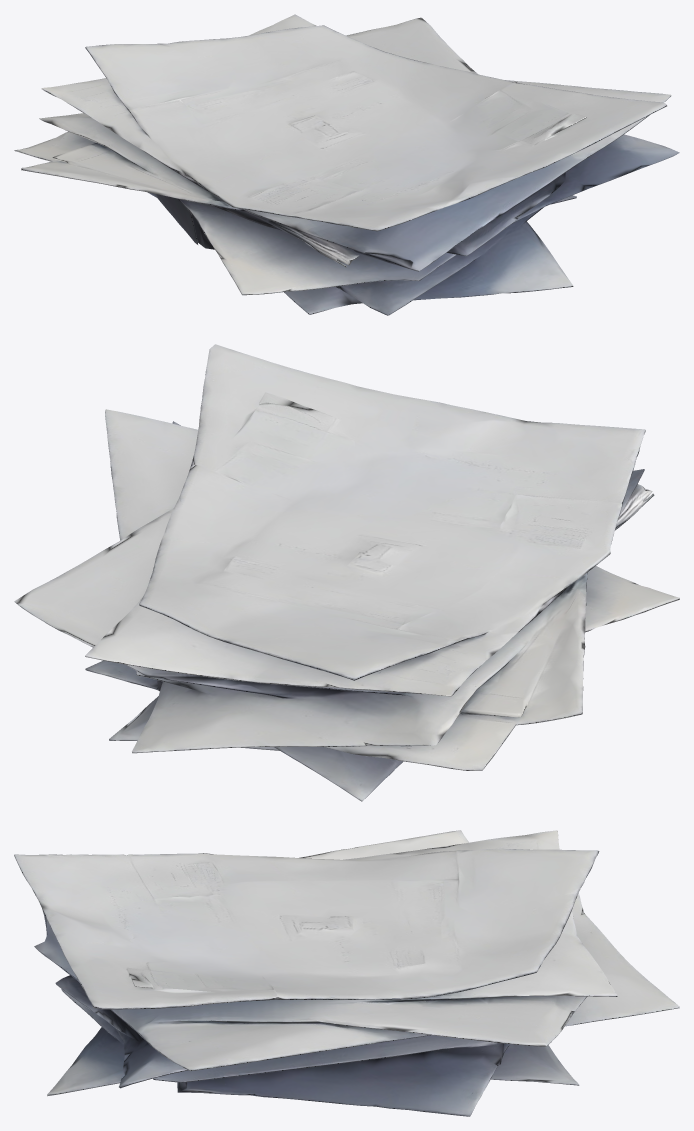
Rendered from tripo_convert_80c27bc0-3d37-4e4e-b346-7c0d91fce60a.fbx.
3 renders of one model, top to bottom at view 1: azimuth 30°, elevation 25°; view 2: azimuth 150°, elevation 25°; view 3: azimuth 270°, elevation 25°, orthographic. The views are drawn at different scales.
Visible parts, largest first — view 1: tripo_node_80c27bc0; view 2: tripo_node_80c27bc0; view 3: tripo_node_80c27bc0.
Boxes of the visible parts, x1,y1,x2,y2 form: tripo_node_80c27bc0: (14,14,679,315); tripo_node_80c27bc0: (14,344,679,801); tripo_node_80c27bc0: (14,830,679,1116).
Bounding box in the file's own units: 0.9919 × 0.2523 × 1.
1 material, 1 textured.
